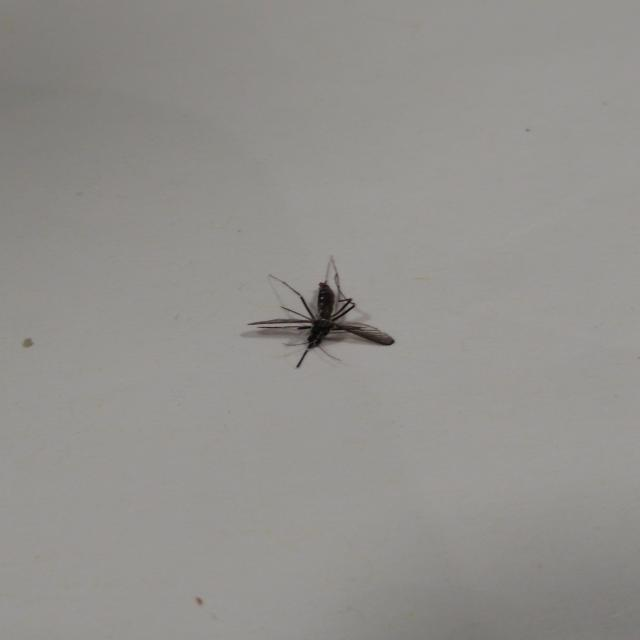albopictus: (247, 250, 394, 372)
